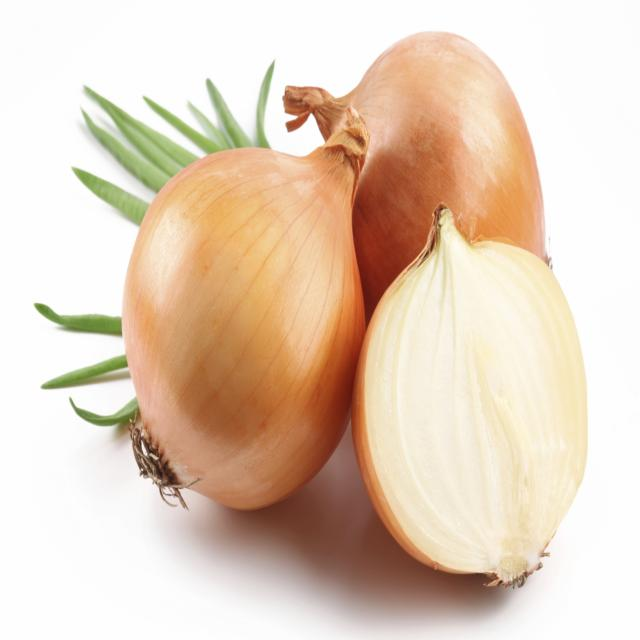onion: (347, 203, 595, 612), (113, 128, 374, 512), (286, 25, 564, 315)
